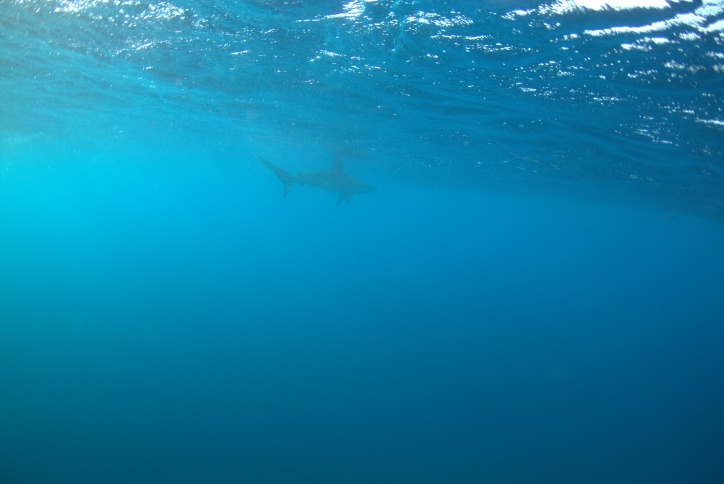Hammer: (232, 133, 399, 228)
